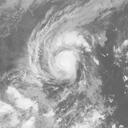cyclone: (50, 47, 78, 78)
